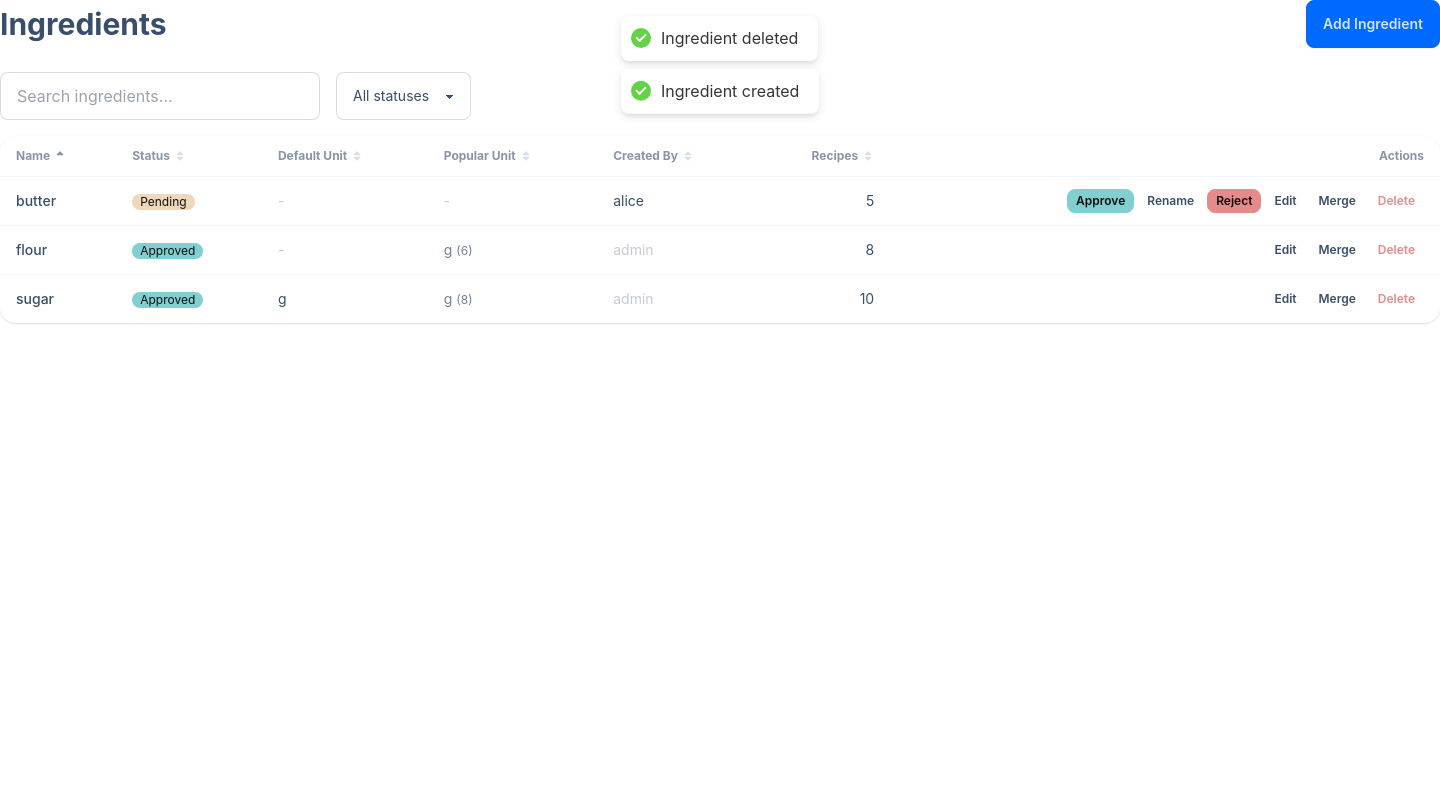
Test: AdminIngredientsPage › should open merge modal
Expected: the text "sugar" is shown, [0, 274, 116, 323]
Click the button "Merge" in the row of "sugar": (1337, 299) [1310, 287, 1365, 311]
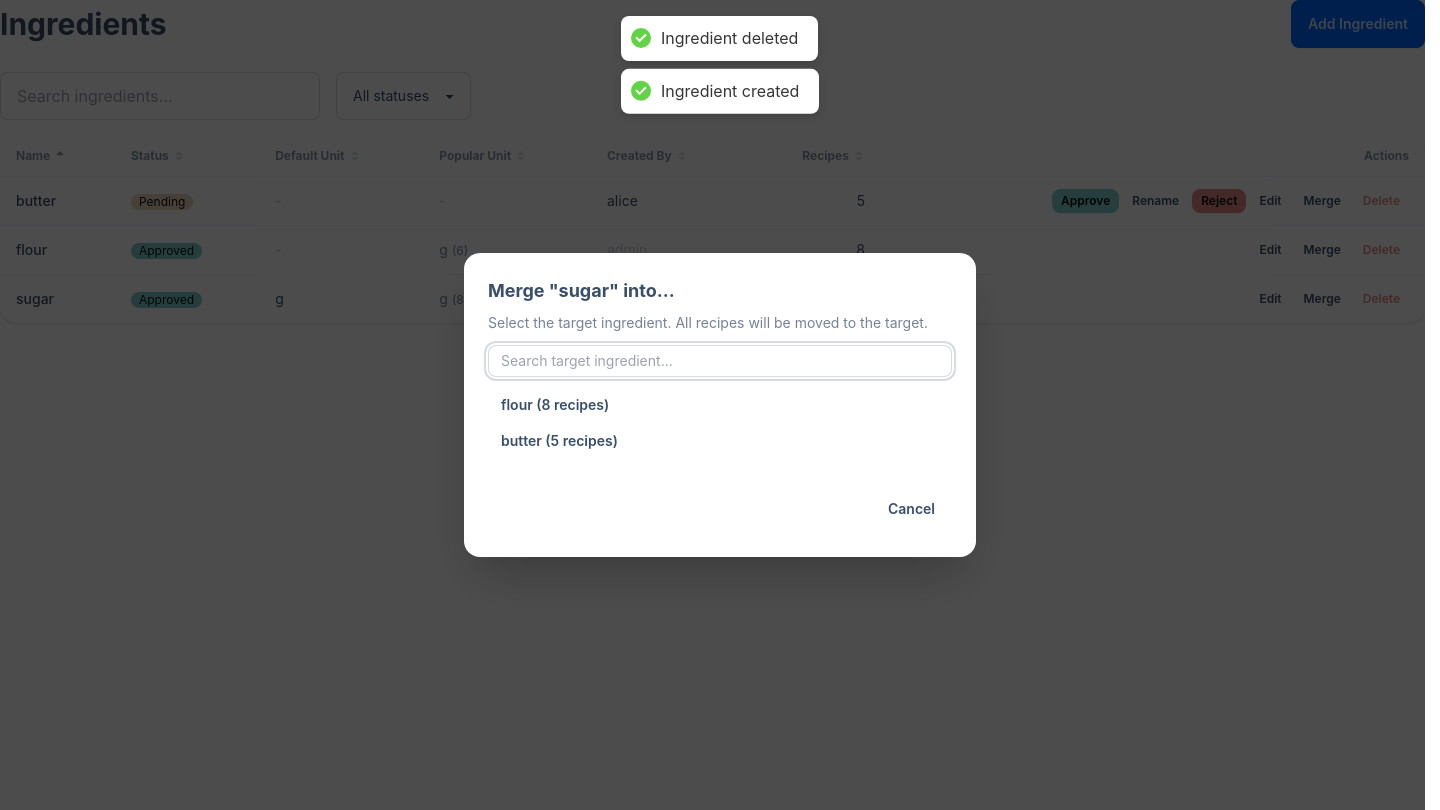
Expected: the heading "Merge \"sugar\" into..." is shown, [488, 280, 675, 301]
